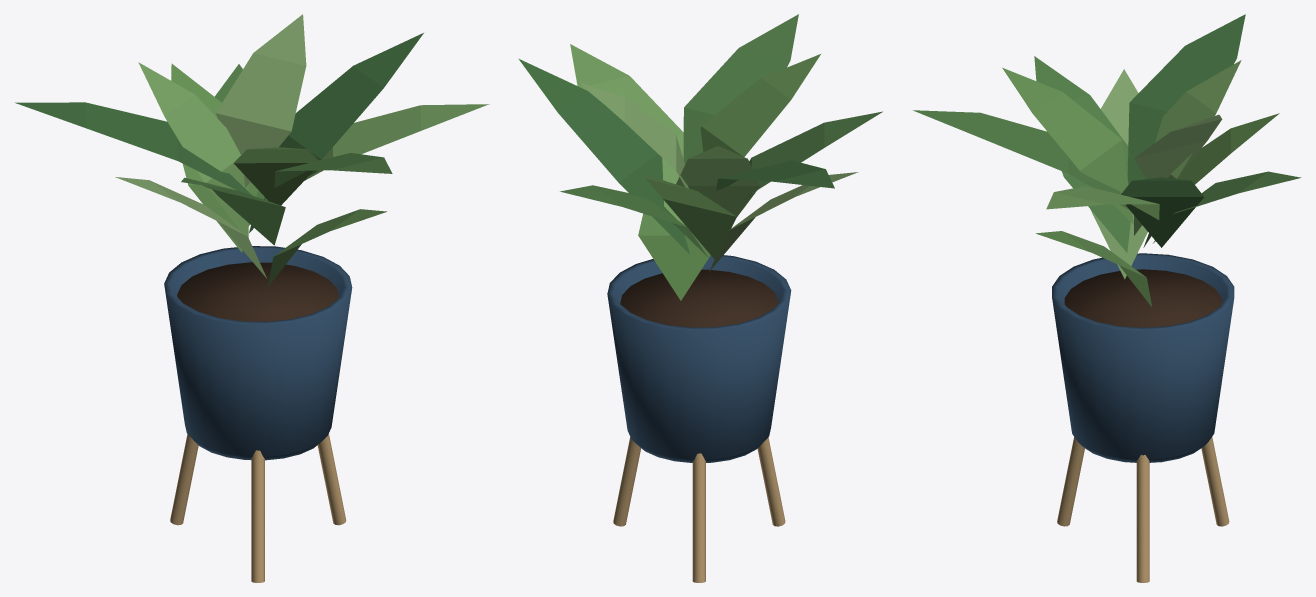
The model's file is i_plant_7.glb.
3 renders of one model, left to right at view 1: azimuth 30°, elevation 25°; view 2: azimuth 150°, elevation 25°; view 3: azimuth 270°, elevation 25°, orthographic. The views are drawn at different scales.
Visible parts, largest first — view 1: o.003, o.009, o.004, o.008, o.012, o.013, o.007, o.016, o.015, o.002, o.011, o.005 (+4 smaller); view 2: o.003, o.008, o.004, o.005, o.016, o.012, o.007, o.011, o.006, o.015, o.009, o.013 (+5 smaller); view 3: o.003, o.004, o.013, o.016, o.005, o.008, o.015, o.012, o.009, o.014, o.011, o (+5 smaller).
Boxes of the visible parts, x1=… form: o.003: x1=164, y1=246, x2=352, y2=460; o.009: x1=216, y1=14, x2=306, y2=187; o.004: x1=177, y1=262, x2=339, y2=321; o.008: x1=249, y1=33, x2=423, y2=232; o.012: x1=138, y1=62, x2=248, y2=237; o.013: x1=15, y1=102, x2=252, y2=195; o.007: x1=264, y1=104, x2=489, y2=200; o.016: x1=233, y1=147, x2=318, y2=205; o.015: x1=181, y1=177, x2=285, y2=245; o.002: x1=251, y1=450, x2=264, y2=582; o.011: x1=171, y1=63, x2=257, y2=252; o.005: x1=274, y1=153, x2=392, y2=187; o.003: x1=607, y1=255, x2=791, y2=462; o.008: x1=518, y1=58, x2=689, y2=254; o.004: x1=620, y1=269, x2=778, y2=327; o.005: x1=683, y1=14, x2=798, y2=164; o.016: x1=700, y1=54, x2=820, y2=156; o.012: x1=676, y1=146, x2=760, y2=216; o.007: x1=570, y1=44, x2=683, y2=223; o.011: x1=646, y1=175, x2=736, y2=259; o.006: x1=638, y1=213, x2=710, y2=300; o.015: x1=747, y1=111, x2=882, y2=197; o.009: x1=580, y1=82, x2=688, y2=188; o.013: x1=716, y1=160, x2=834, y2=190; o.003: x1=1052, y1=253, x2=1234, y2=462; o.004: x1=1064, y1=269, x2=1221, y2=327; o.013: x1=1127, y1=14, x2=1245, y2=184; o.016: x1=1002, y1=67, x2=1133, y2=224; o.005: x1=913, y1=110, x2=1121, y2=194; o.008: x1=1121, y1=177, x2=1203, y2=247; o.015: x1=1034, y1=56, x2=1130, y2=252; o.012: x1=1134, y1=60, x2=1241, y2=235; o.009: x1=1134, y1=114, x2=1222, y2=178; o.014: x1=1090, y1=69, x2=1147, y2=279; o.011: x1=1143, y1=113, x2=1279, y2=247; o: x1=1136, y1=454, x2=1149, y2=582.
Size of the model in its own units: 0.6406 by 0.787 by 0.5927.
